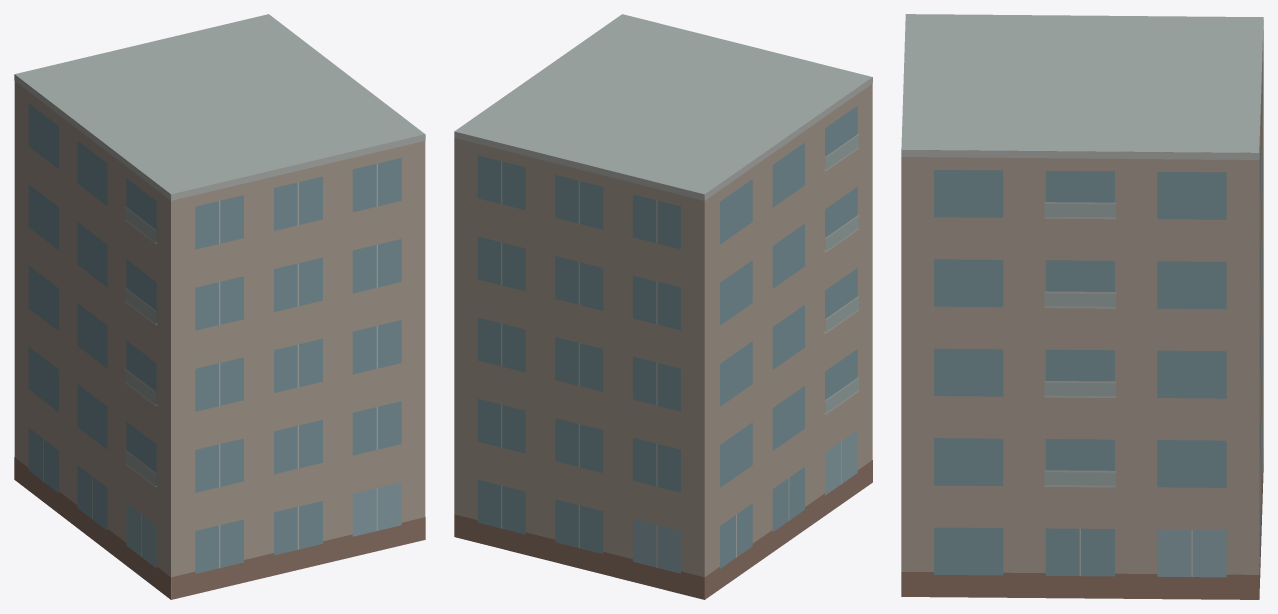
File: survey-upis-33007163.glb
The picture shows the model from 3 angles, left to right: view 1: azimuth 30°, elevation 25°; view 2: azimuth 150°, elevation 25°; view 3: azimuth 270°, elevation 25°; orthographic projection. The views are drawn at different scales.
Visible parts, largest first — view 1: survey-upis-33007163.tmp; view 2: survey-upis-33007163.tmp; view 3: survey-upis-33007163.tmp.
Part boxes in pixels (x1,y1,x2,y2): survey-upis-33007163.tmp: (14,14,425,599); survey-upis-33007163.tmp: (454,14,872,599); survey-upis-33007163.tmp: (901,14,1263,599).
Bounding box in the file's own units: 10.22 × 15.3 × 11.25.
